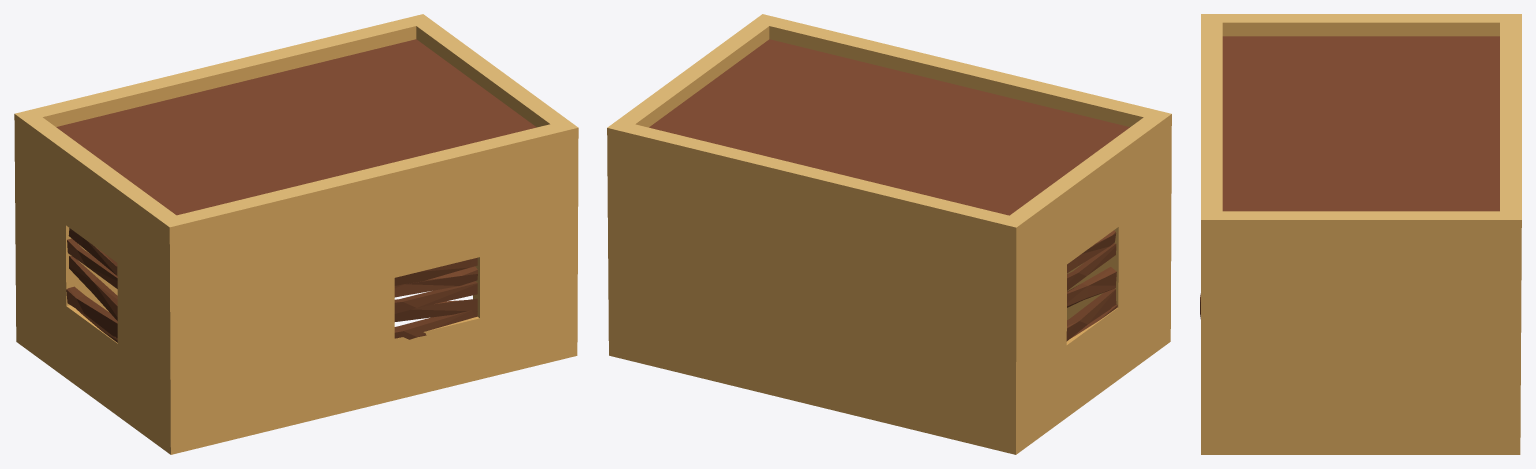
File: Model_Desert_3x2A.fbx
3 renders of one model, left to right at view 1: azimuth 30°, elevation 25°; view 2: azimuth 150°, elevation 25°; view 3: azimuth 270°, elevation 25°, orthographic. The views are drawn at different scales.
Parts seen in each view (by area): view 1: Model_Frost_3x2A; view 2: Model_Frost_3x2A; view 3: Model_Frost_3x2A.
Part boxes in pixels (x1,y1,x2,y2): Model_Frost_3x2A: (14, 14, 578, 454); Model_Frost_3x2A: (607, 14, 1171, 454); Model_Frost_3x2A: (1200, 14, 1521, 454).
Bounding box in the file's own units: 602 × 320 × 397.
1 material, 1 textured.
